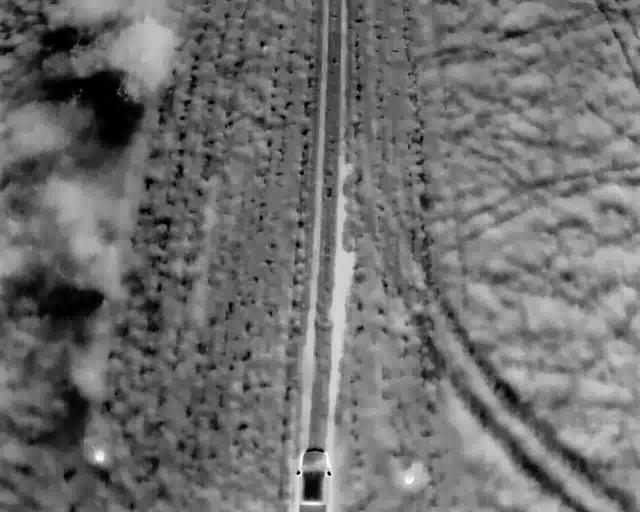car: (295, 447, 330, 512)
